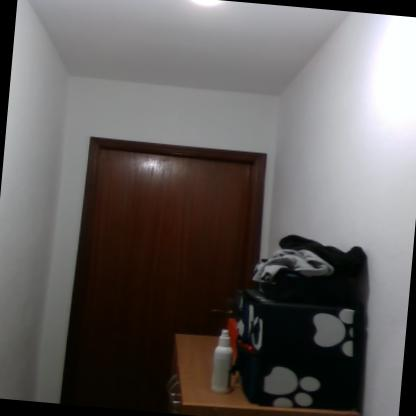closed: (49, 122, 276, 414)
